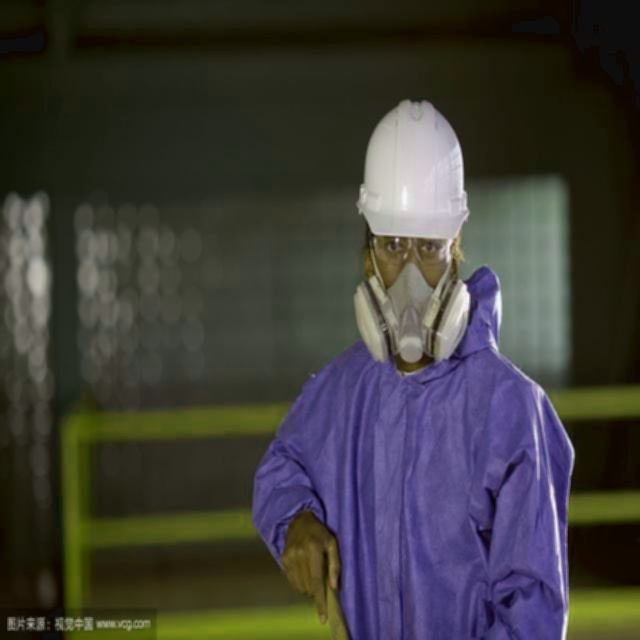Con_Casco: (356, 96, 466, 285)
